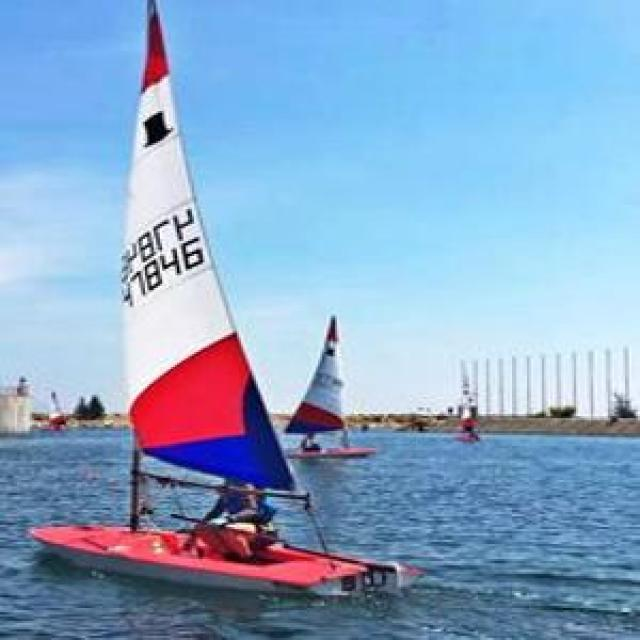sailboat: (29, 0, 409, 607), (280, 297, 380, 462)
